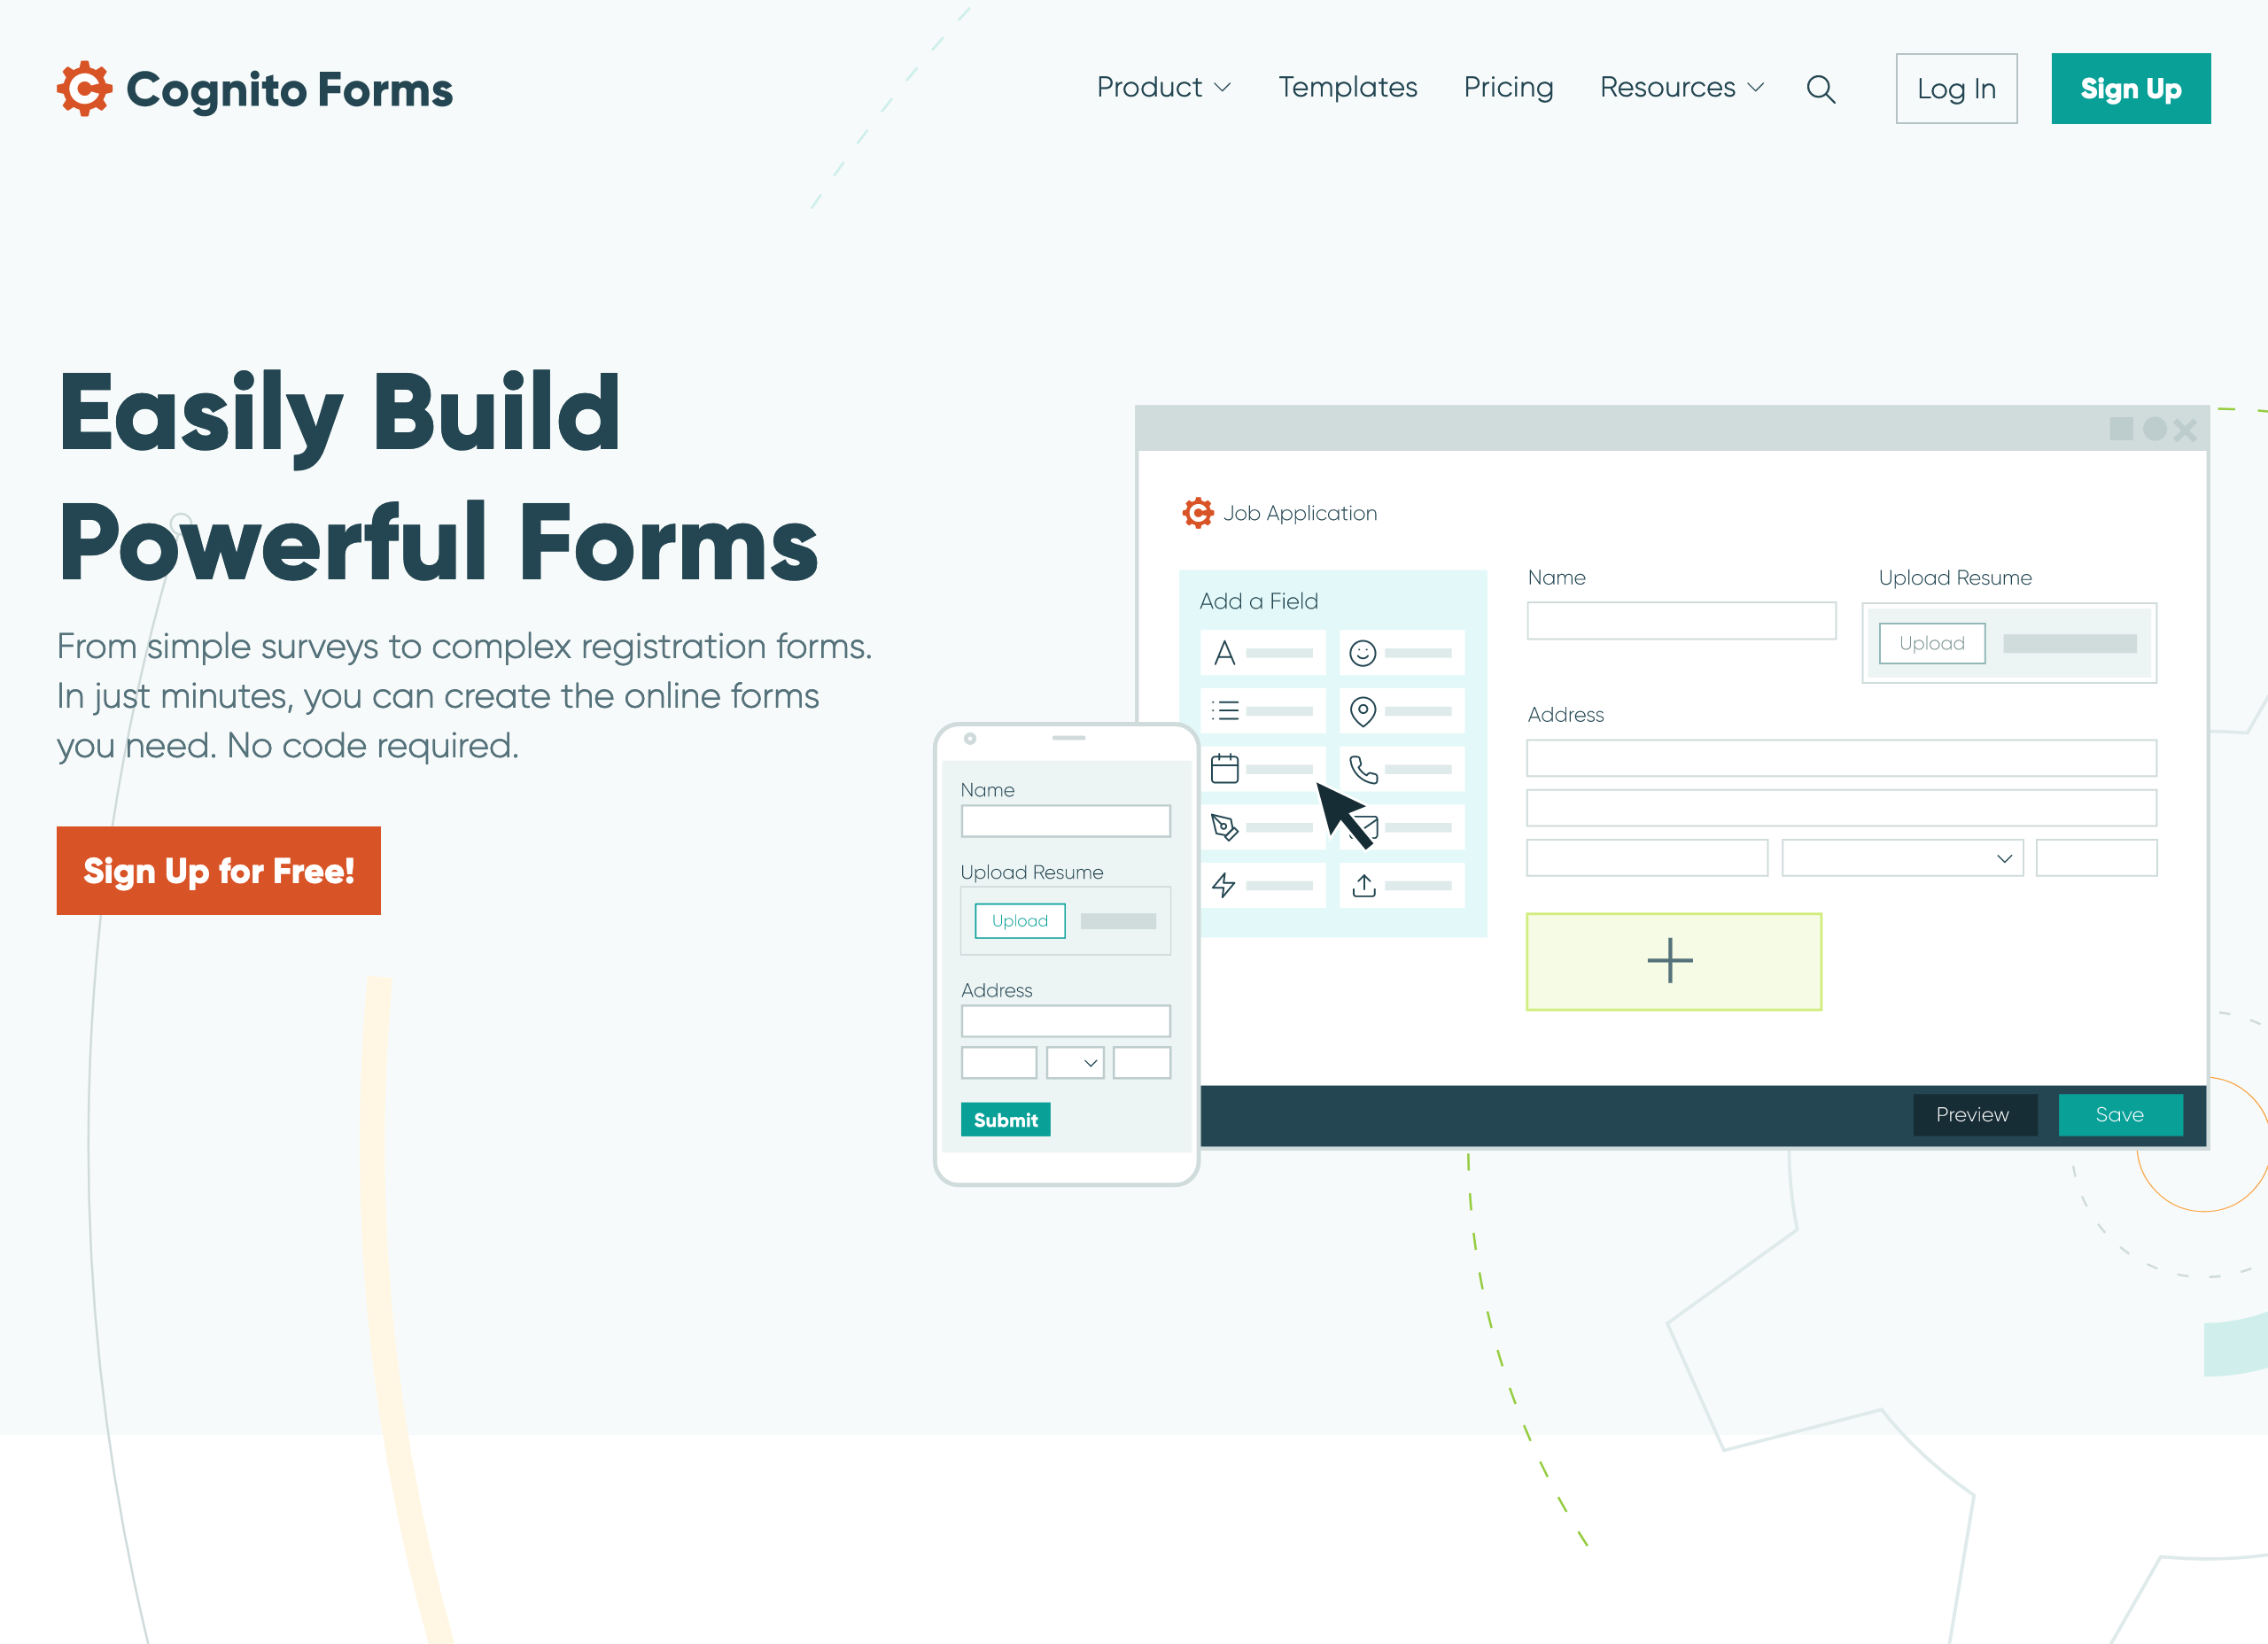Login: (1870, 35, 2036, 137)
